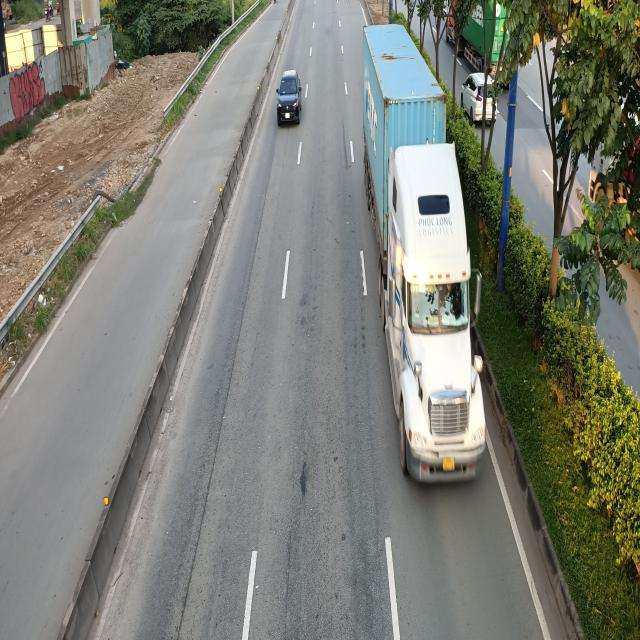car: (276, 70, 303, 126)
container: (364, 20, 486, 480)
